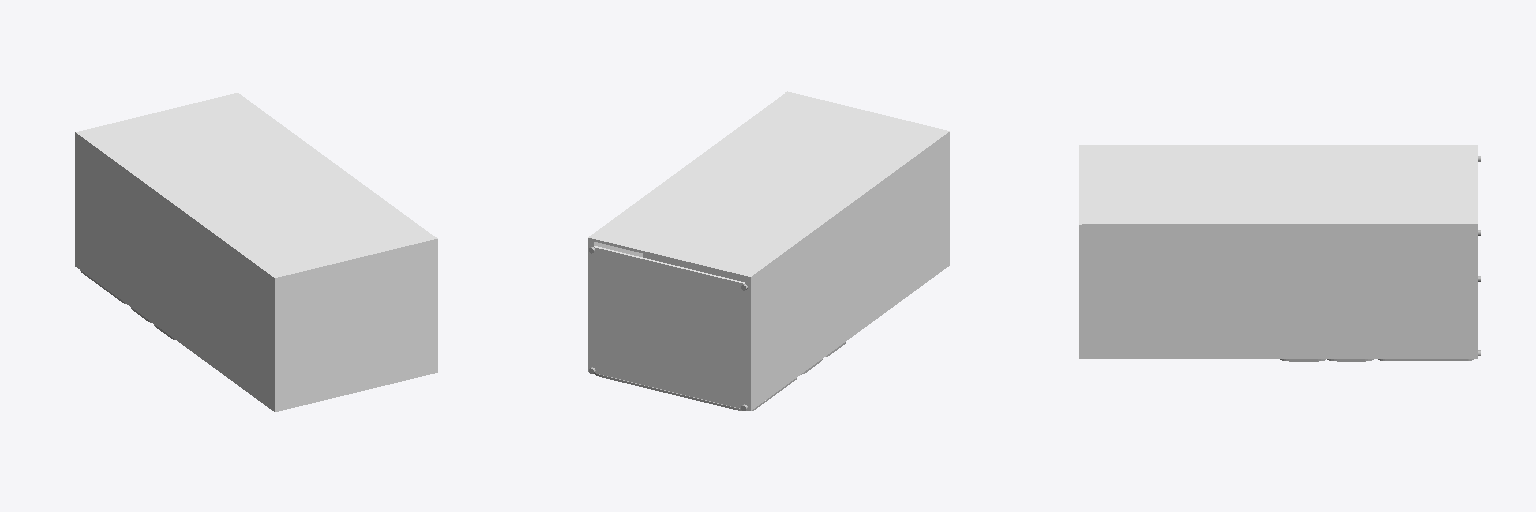
Rendered from StuvaFritidsBookcase_Pink.obj.
3 views of the same model, side by side, from view 1: azimuth 30°, elevation 25°; view 2: azimuth 150°, elevation 25°; view 3: azimuth 270°, elevation 25° (orthographic).
Parts seen in each view (by area): view 1: obj_0; view 2: obj_0; view 3: obj_0.
Boxes of the visible parts, <box> form: obj_0: <box>75,93,437,411</box>; obj_0: <box>588,91,949,410</box>; obj_0: <box>1079,145,1480,361</box>.
Bounding box in the file's own units: 60 × 50 × 128.